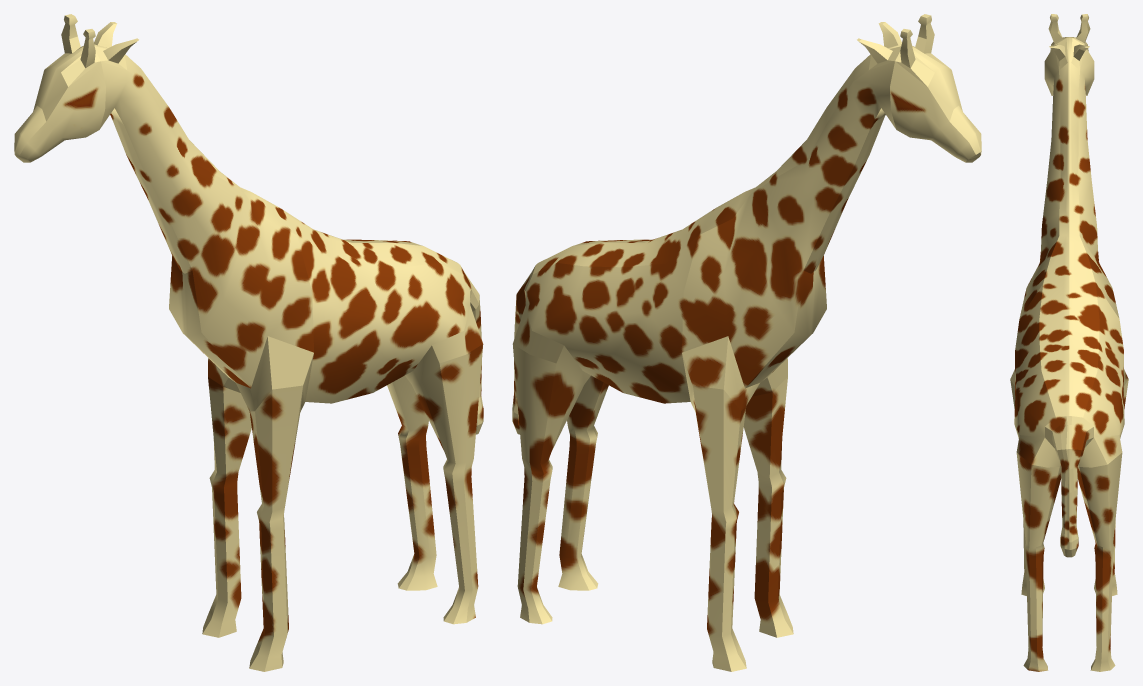
File: Giraffe2.fbx
3 renders of one model, left to right at view 1: azimuth 30°, elevation 25°; view 2: azimuth 150°, elevation 25°; view 3: azimuth 270°, elevation 25°, orthographic. The views are drawn at different scales.
Parts seen in each view (by area): view 1: pCube4; view 2: pCube4; view 3: pCube4.
Part boxes in pixels (x1,y1,x2,y2): pCube4: (14, 14, 483, 671); pCube4: (512, 14, 981, 671); pCube4: (1010, 14, 1128, 671).
Bounding box in the file's own units: 8.14 × 11.06 × 2.3.
1 material, 1 textured.
